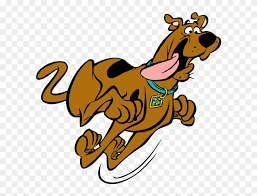scooby: (35, 12, 221, 170)
